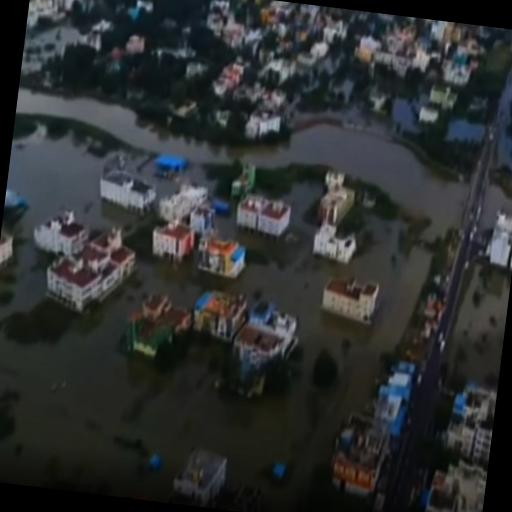flood: (0, 133, 433, 512), (16, 89, 468, 239), (136, 159, 213, 203), (221, 219, 283, 250), (483, 184, 512, 227)
house: (44, 222, 141, 318), (328, 408, 399, 501), (445, 372, 498, 470), (235, 297, 301, 374), (130, 289, 194, 362), (166, 442, 234, 510), (190, 282, 248, 348), (418, 460, 488, 512), (234, 186, 294, 244), (320, 273, 380, 331), (96, 168, 159, 220), (161, 178, 219, 230), (0, 186, 29, 284), (198, 232, 253, 282), (314, 170, 361, 226), (153, 217, 203, 267), (311, 222, 359, 267), (484, 209, 512, 269), (246, 108, 284, 142)
